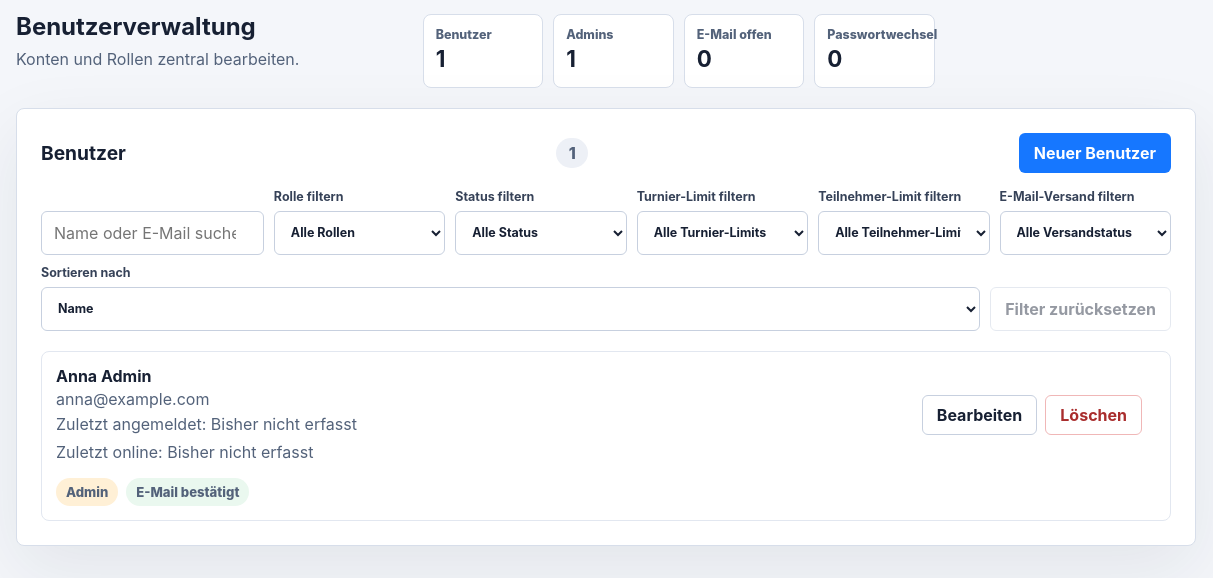
Scenario: Benutzer-Seite: Liste + Dialog › lässt einen aktiven Rollenfilter zurücksetzen, auch wenn er alle Benutzer trifft
This screenshot has width=1213, height=578.
Check: the text "Anna Admin" is shown, box [56,366,152,386]
Select "Admin" in the dropdown labelled "Rolle filtern" at (360, 233), box [274,211,445,255]
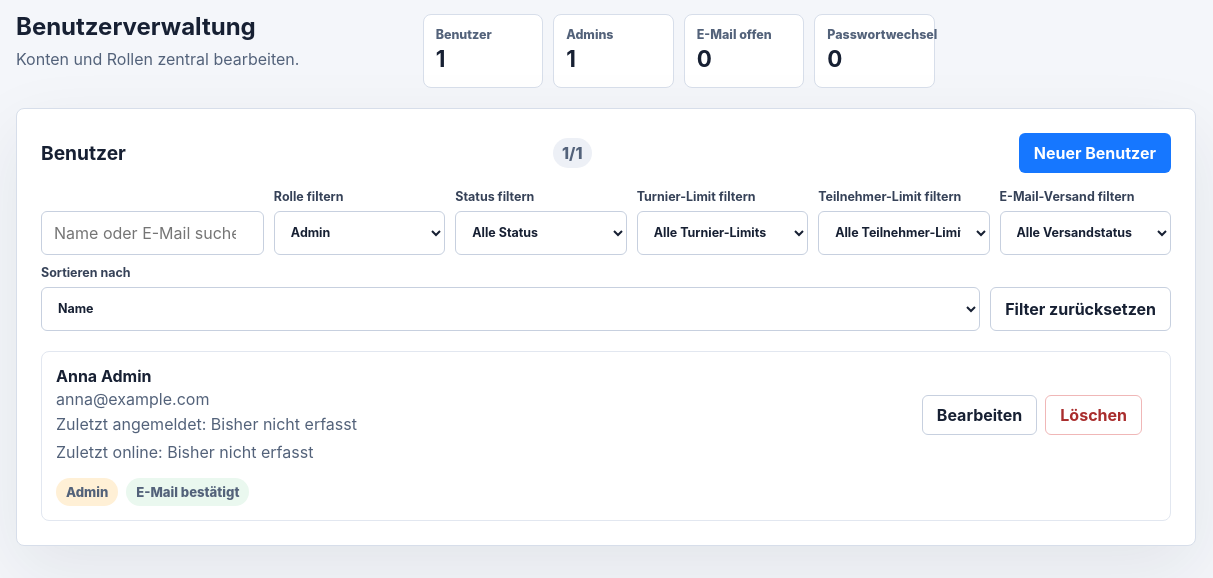
Check: the button "Filter zurücksetzen" is enabled, box [990,287,1171,331]
